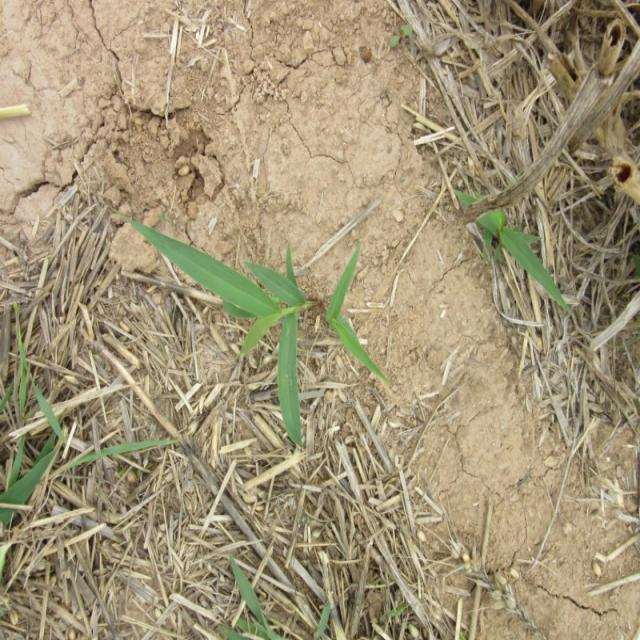bg: (114, 203, 392, 442)
